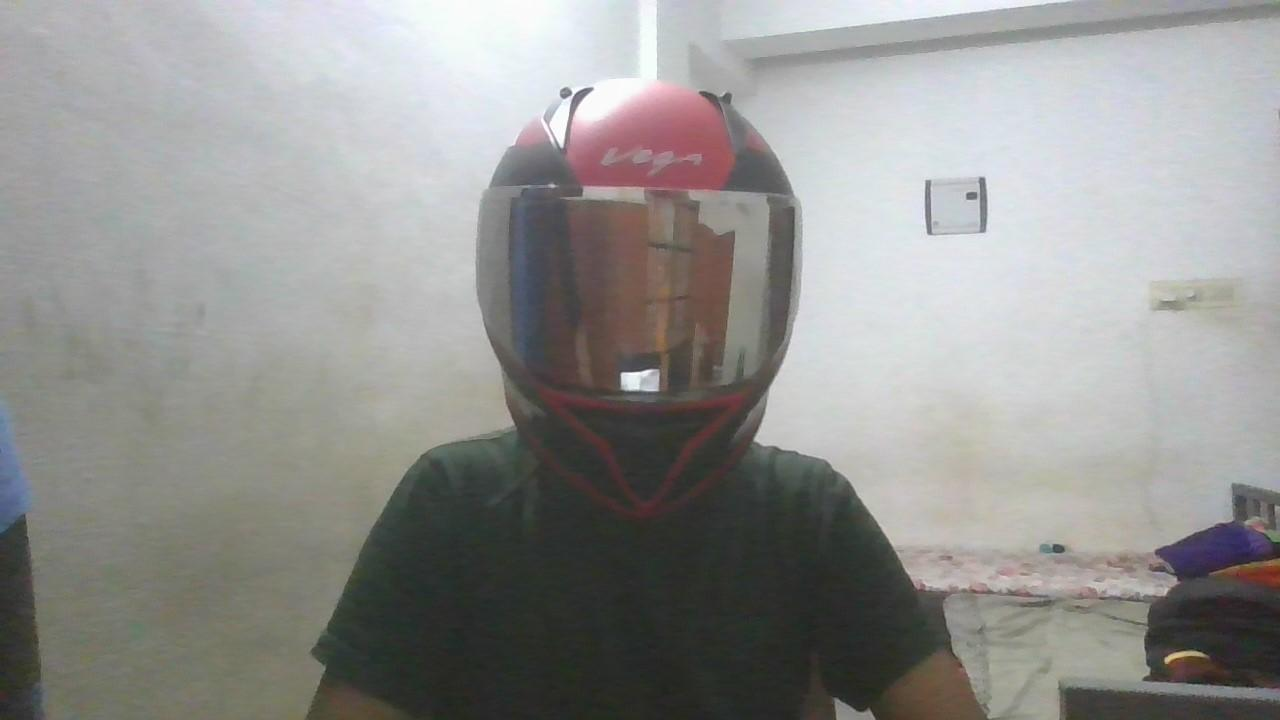helmet: (474, 77, 804, 522)
